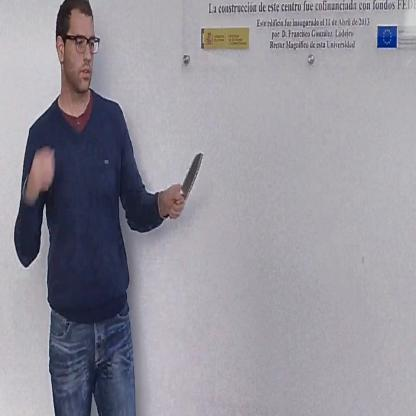knife: (169, 148, 206, 222)
